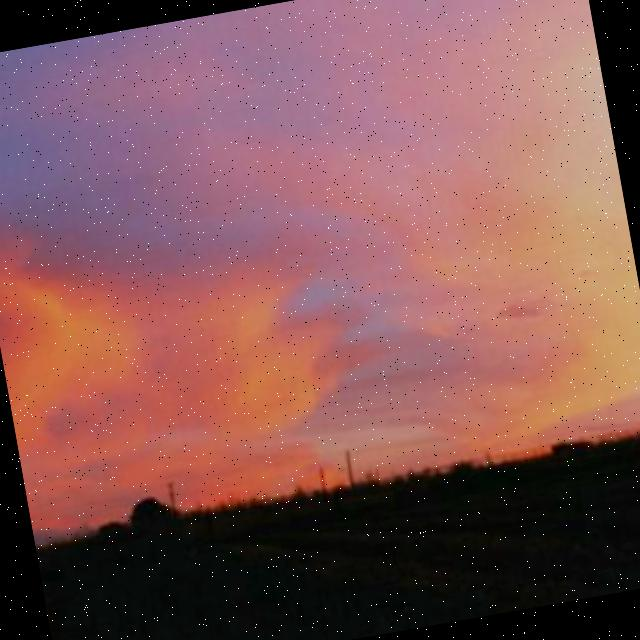As: (1, 8, 640, 479)
